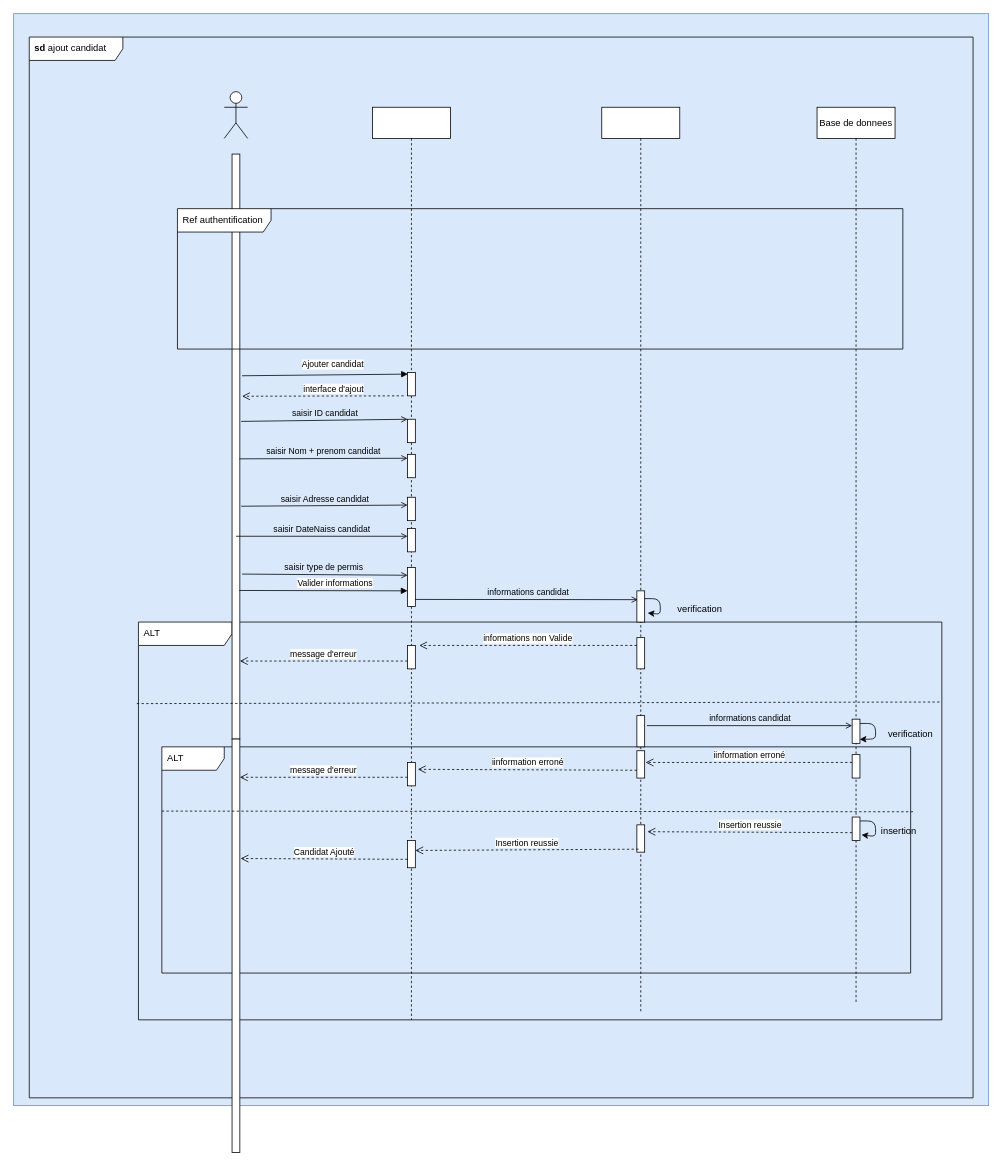
The diagram is 1002 pixels wide and 1166 high, and some of its shapes have lost their labels. Each missing label, with the box of its shape:
Actor: (223, 91, 248, 138)
Controleur: (601, 106, 680, 1012)
IHM: (372, 106, 450, 1020)
